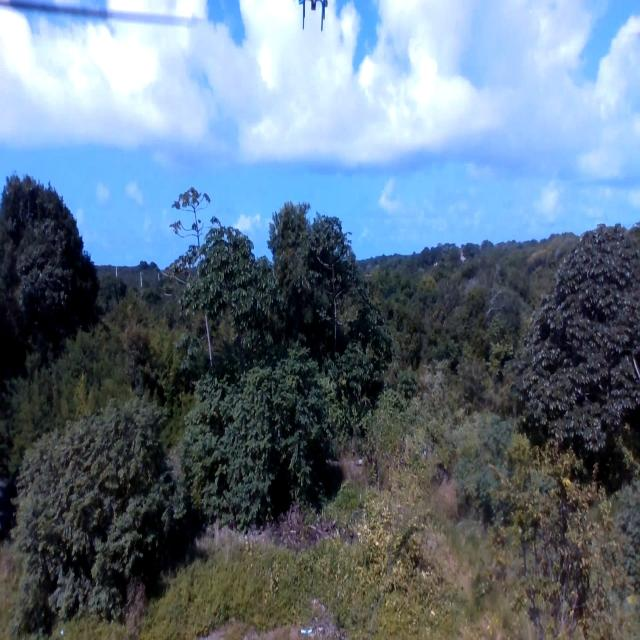-uav-: (296, 0, 332, 36)
